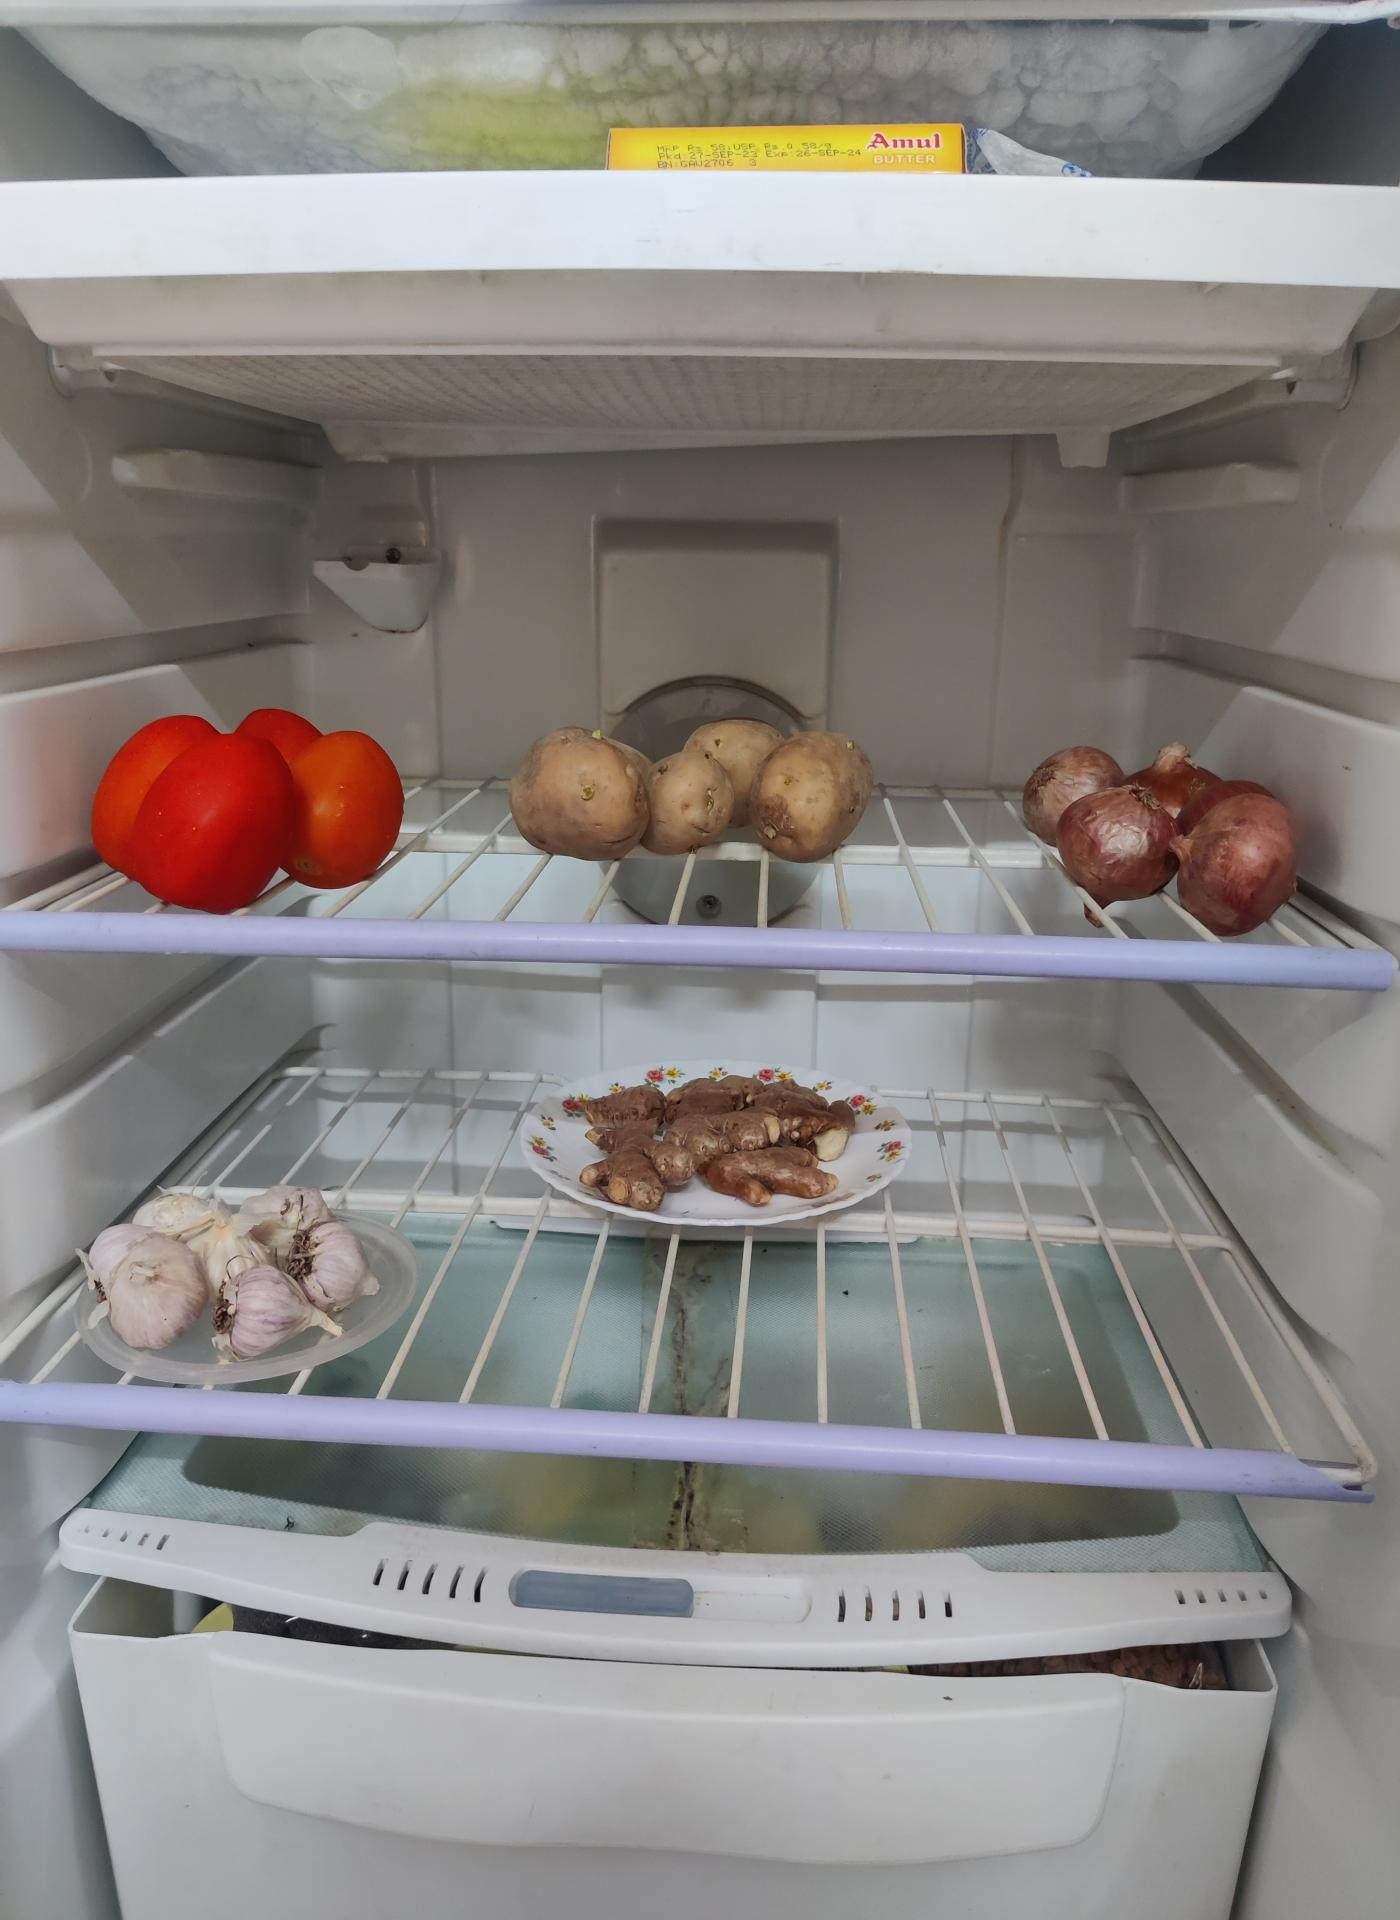garlic: (91, 1185, 377, 1352)
ginger: (538, 1069, 883, 1215)
onion: (1024, 738, 1303, 930)
potato: (514, 720, 881, 866)
tomato: (95, 711, 410, 915)
